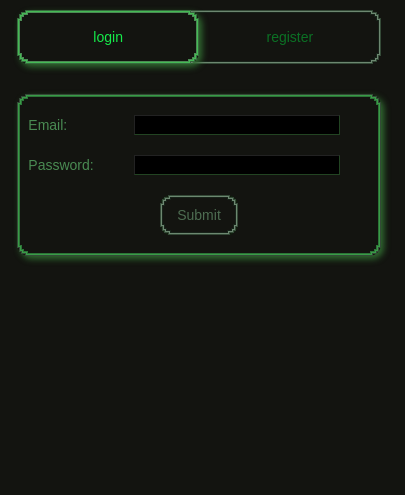
LoginForm — register mode › password criteria checklist appears when typing in password field
Click the button "login register": (108, 37) [17, 10, 381, 64]
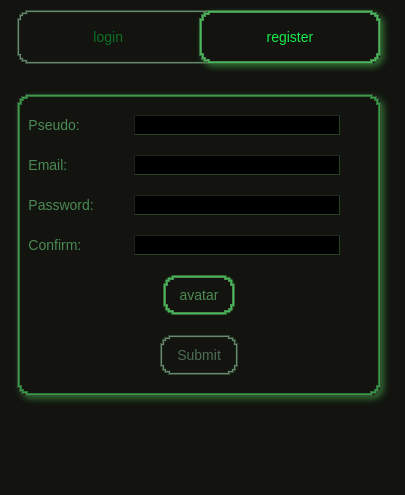
In the password field labelled "Password:": (237, 205) [134, 195, 340, 215], type "Ab1!"
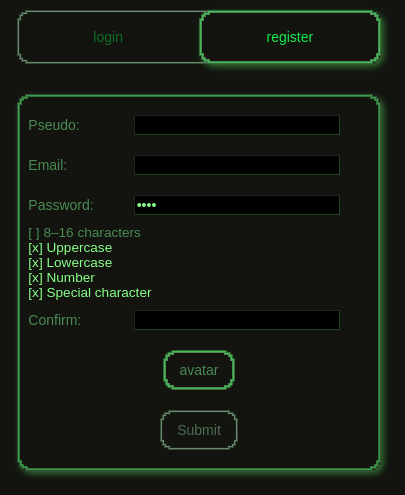
Expected: the list item "[ ] 8–16 characters" is shown, [28, 225, 141, 240]
